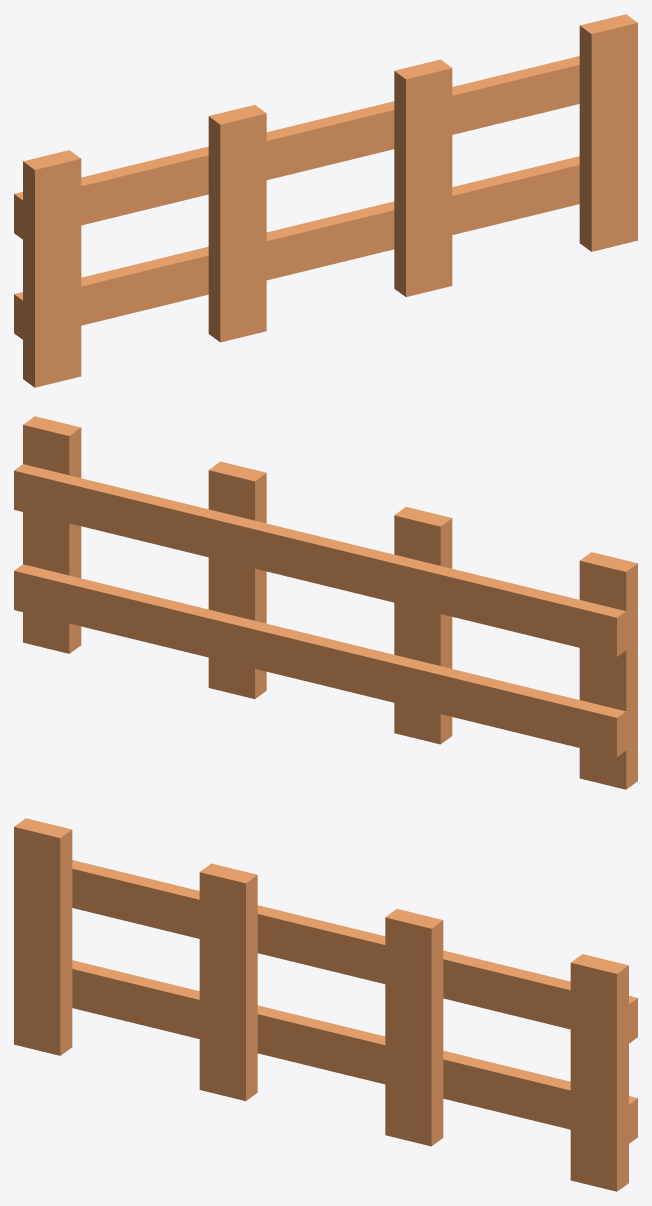
The model's file is fence_double.obj.
3 views of the same model, one above another, from view 1: azimuth 30°, elevation 25°; view 2: azimuth 150°, elevation 25°; view 3: azimuth 330°, elevation 25° (orthographic).
Parts seen in each view (by area): view 1: fence_double; view 2: fence_double; view 3: fence_double.
Boxes of the visible parts, x1,y1,x2,y2 form: fence_double: (14,14,637,387); fence_double: (14,416,637,789); fence_double: (14,818,637,1191).
Bounding box in the file's own units: 10 × 3.45 × 0.5986.
